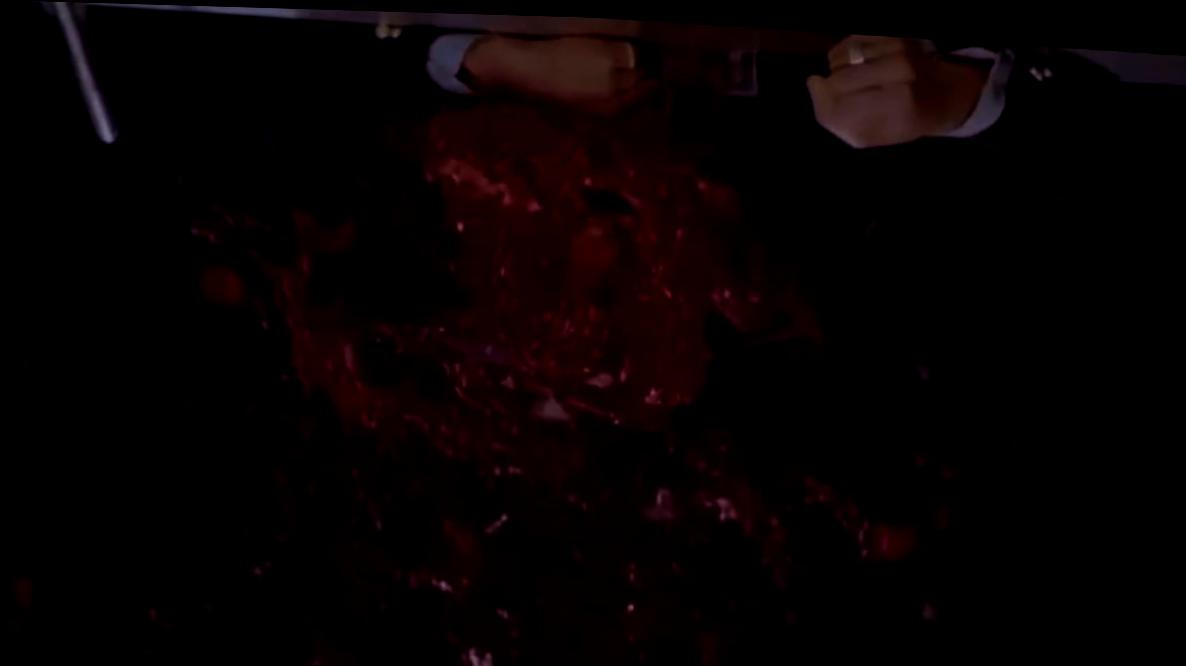Fire: (62, 53, 958, 666), (3, 571, 44, 643), (2, 340, 29, 374)
